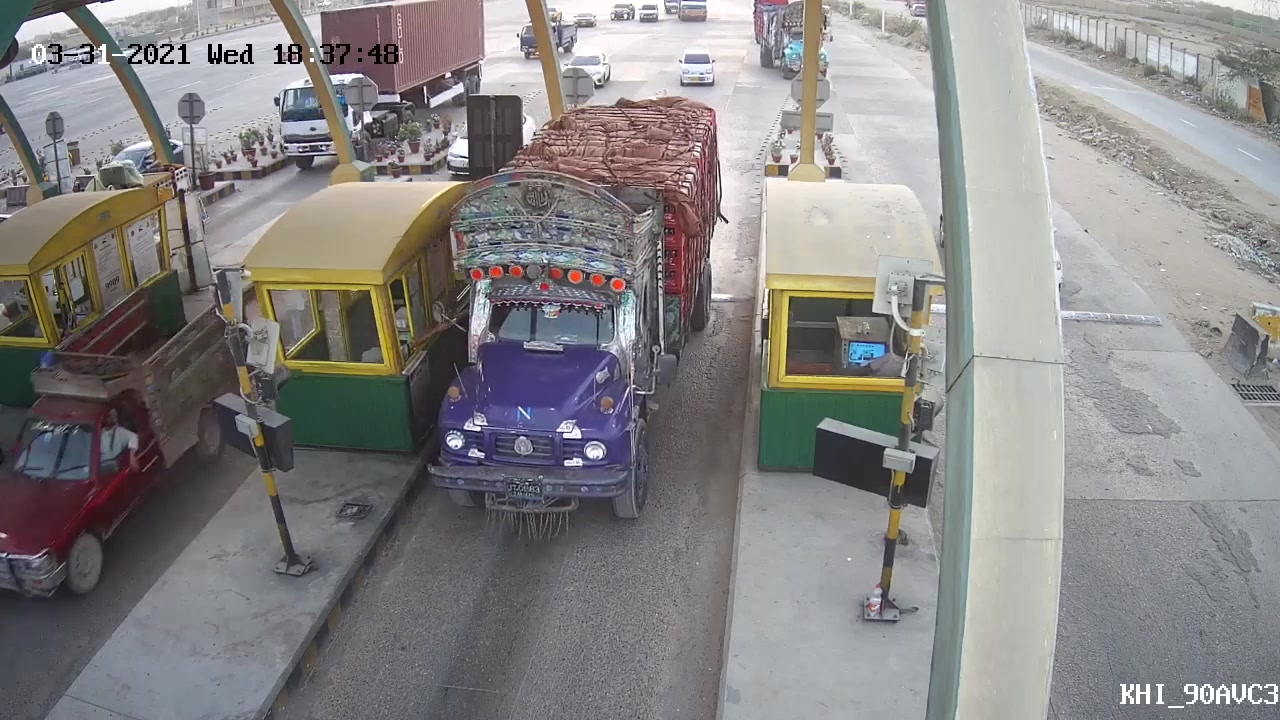F5: (427, 132, 717, 542)
